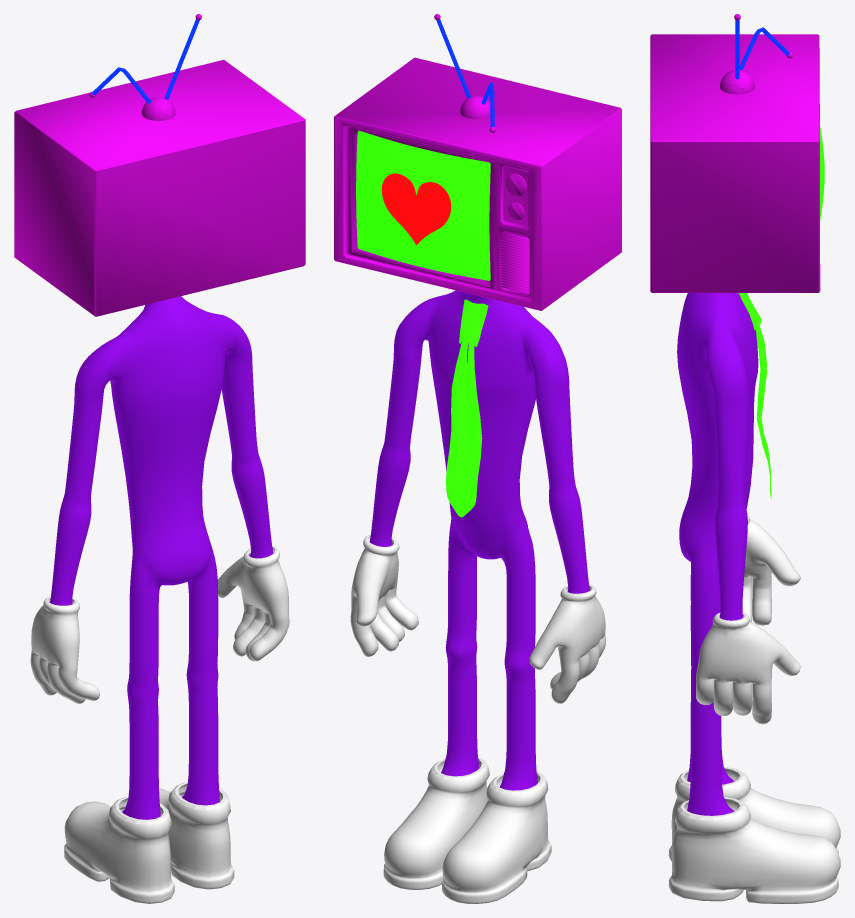
Rendered from radiostar.glb.
The picture shows the model from 3 angles, left to right: view 1: azimuth 30°, elevation 25°; view 2: azimuth 150°, elevation 25°; view 3: azimuth 270°, elevation 25°; orthographic projection. The views are drawn at different scales.
Visible parts, largest first — view 1: Cylinder.002, Cylinder, Cylinder.001; view 2: Cylinder.002, Cylinder, Cylinder.001, Cylinder.005, Circle; view 3: Cylinder.002, Cylinder.001, Cylinder, Cylinder.005.
Boxes of the visible parts, left/top/right/bottom form: Cylinder.002: left=14, top=14, right=305, bottom=316; Cylinder: left=50, top=296, right=273, bottom=819; Cylinder.001: left=30, top=546, right=289, bottom=903; Cylinder.002: left=334, top=14, right=621, bottom=310; Cylinder: left=369, top=290, right=589, bottom=790; Cylinder.001: left=350, top=534, right=605, bottom=903; Cylinder.005: left=446, top=299, right=488, bottom=517; Circle: left=381, top=173, right=451, bottom=245; Cylinder.002: left=650, top=14, right=824, bottom=292; Cylinder.001: left=668, top=512, right=840, bottom=903; Cylinder: left=677, top=293, right=758, bottom=815; Cylinder.005: left=739, top=293, right=771, bottom=499.
Bounding box in the file's own units: 3.36 × 11.5 × 2.25.
